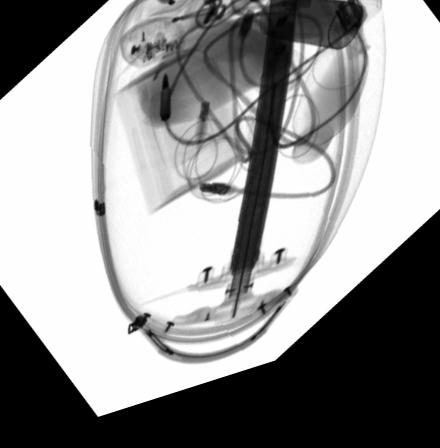Bullet: (159, 83, 170, 132)
